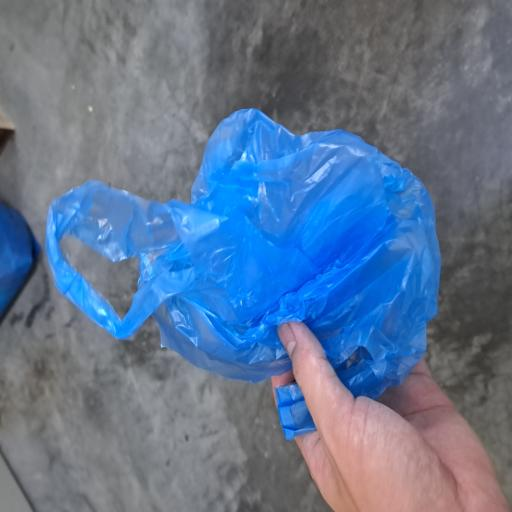plastic bag: (71, 72, 464, 398)
